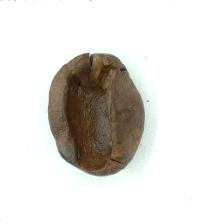NG: (60, 57, 124, 173)
